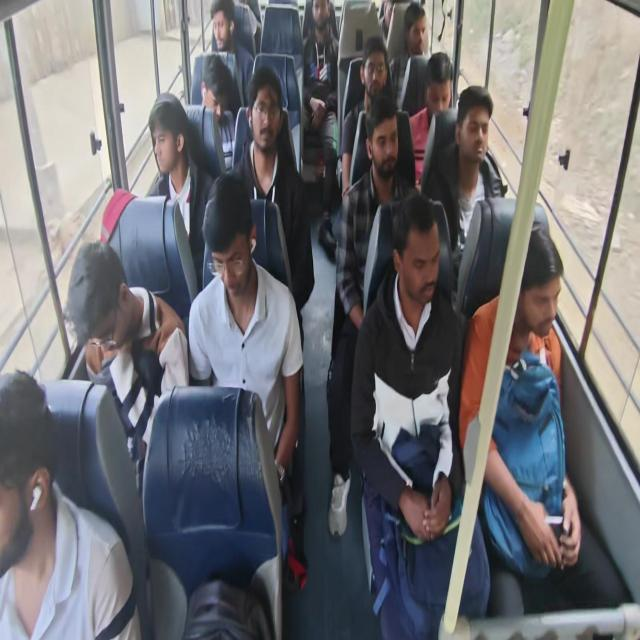person: (0, 379, 64, 559), (72, 252, 132, 362), (207, 202, 260, 293), (141, 94, 185, 183), (527, 237, 560, 355), (400, 224, 442, 311), (458, 97, 496, 172), (196, 63, 228, 124), (204, 2, 239, 52), (366, 120, 396, 178), (423, 67, 454, 122), (404, 8, 432, 63), (252, 95, 278, 151), (358, 56, 388, 100), (312, 3, 329, 30)
